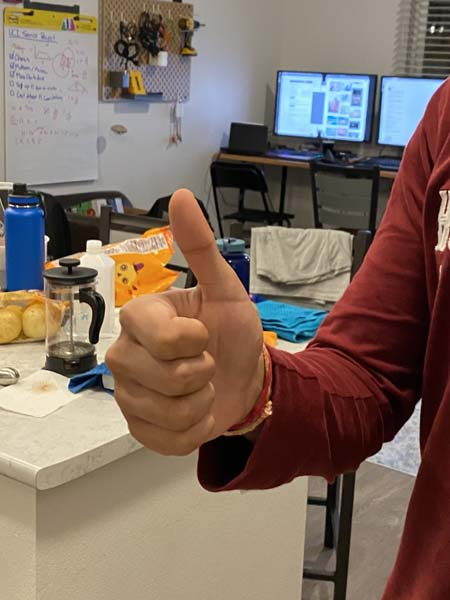Thumbs Up: (101, 185, 271, 483)
